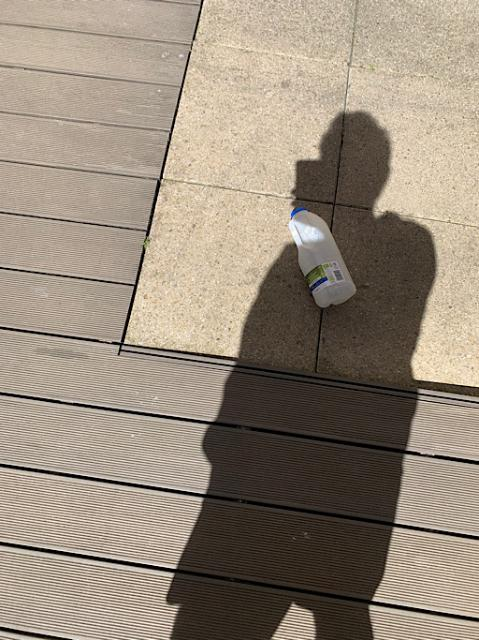plastic: (289, 206, 355, 305)
